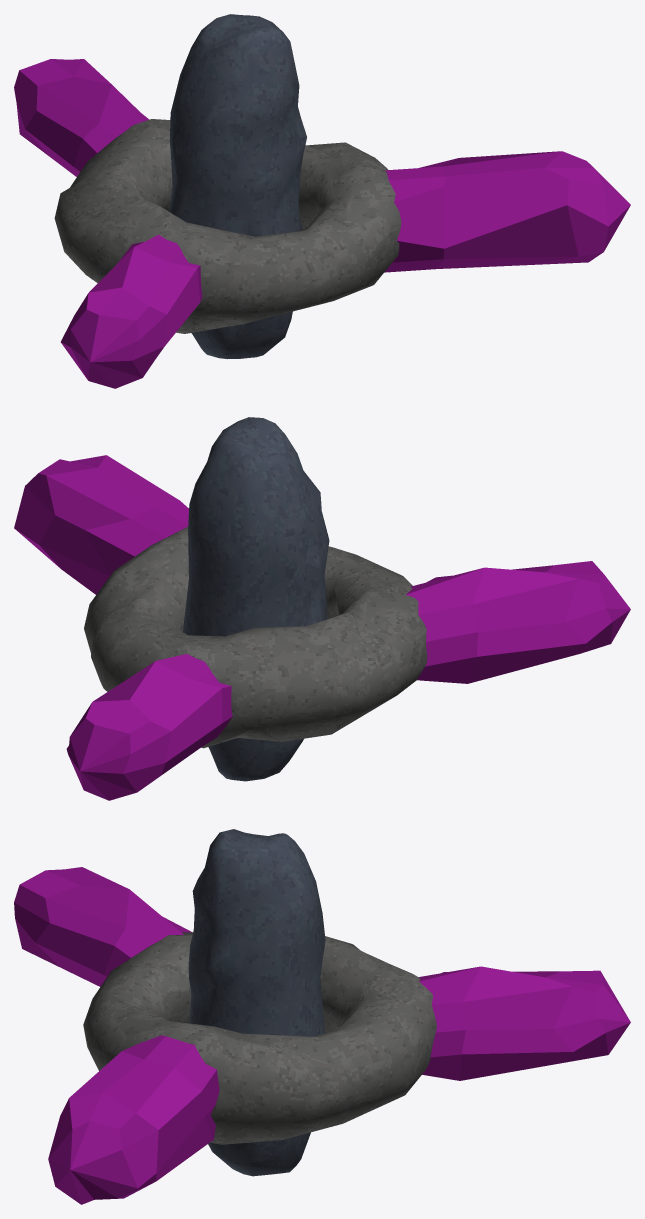
File: Golem2.fbx
3 renders of one model, top to bottom at view 1: azimuth 30°, elevation 25°; view 2: azimuth 150°, elevation 25°; view 3: azimuth 270°, elevation 25°, orthographic.
Parts seen in each view (by area): view 1: Golem2, Golem2P2; view 2: Golem2, Golem2P2; view 3: Golem2, Golem2P2.
Boxes of the visible parts, box(x1,y1,x2,y2) form: Golem2: box(14, 59, 630, 388); Golem2P2: box(169, 14, 306, 359); Golem2: box(14, 455, 630, 800); Golem2P2: box(183, 417, 329, 781); Golem2: box(14, 867, 630, 1204); Golem2P2: box(188, 829, 325, 1176).
Bounding box in the file's own units: 547 × 313 × 515.
